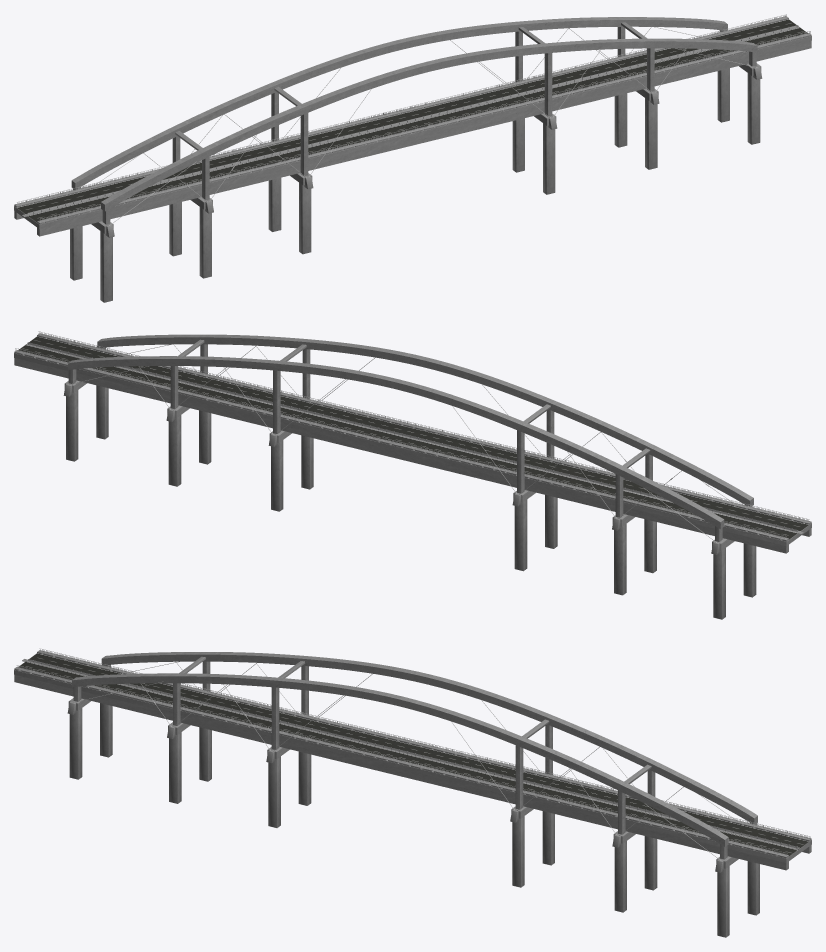
File: qiao6.FBX
3 renders of one model, top to bottom at view 1: azimuth 30°, elevation 25°; view 2: azimuth 150°, elevation 25°; view 3: azimuth 330°, elevation 25°, orthographic.
Parts seen in each view (by area): view 1: qiao6; view 2: qiao6; view 3: qiao6.
Boxes of the visible parts, x1=… form: qiao6: x1=14, y1=14, x2=811, y2=302; qiao6: x1=14, y1=331, x2=811, y2=619; qiao6: x1=14, y1=648, x2=811, y2=937.
Size of the model in its own units: 30996 by 6027 by 2882.
3 materials, 3 textured.
